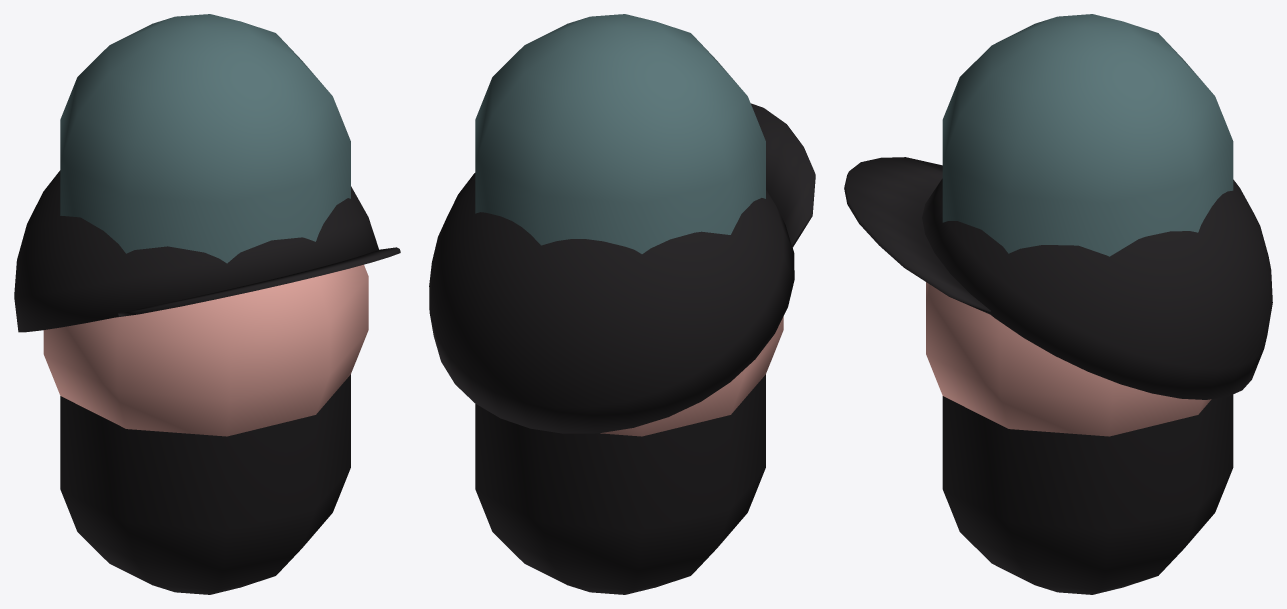
The model's file is character10.glb.
The picture shows the model from 3 angles, left to right: view 1: azimuth 30°, elevation 25°; view 2: azimuth 150°, elevation 25°; view 3: azimuth 270°, elevation 25°; orthographic projection.
Parts seen in each view (by area): view 1: body, head; view 2: body, head; view 3: body, head.
Boxes of the visible parts, x1,y1,x2,y2 form: body: (60,14,350,594); head: (14,170,400,436); body: (475,14,765,594); head: (429,103,815,436); body: (942,14,1233,594); head: (844,157,1272,436).
Bounding box in the file's own units: 1.86 × 3.06 × 2.15.
